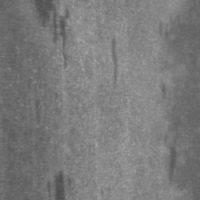inclusion: (48, 1, 74, 74), (160, 116, 183, 194), (102, 31, 129, 93), (44, 166, 68, 200)
